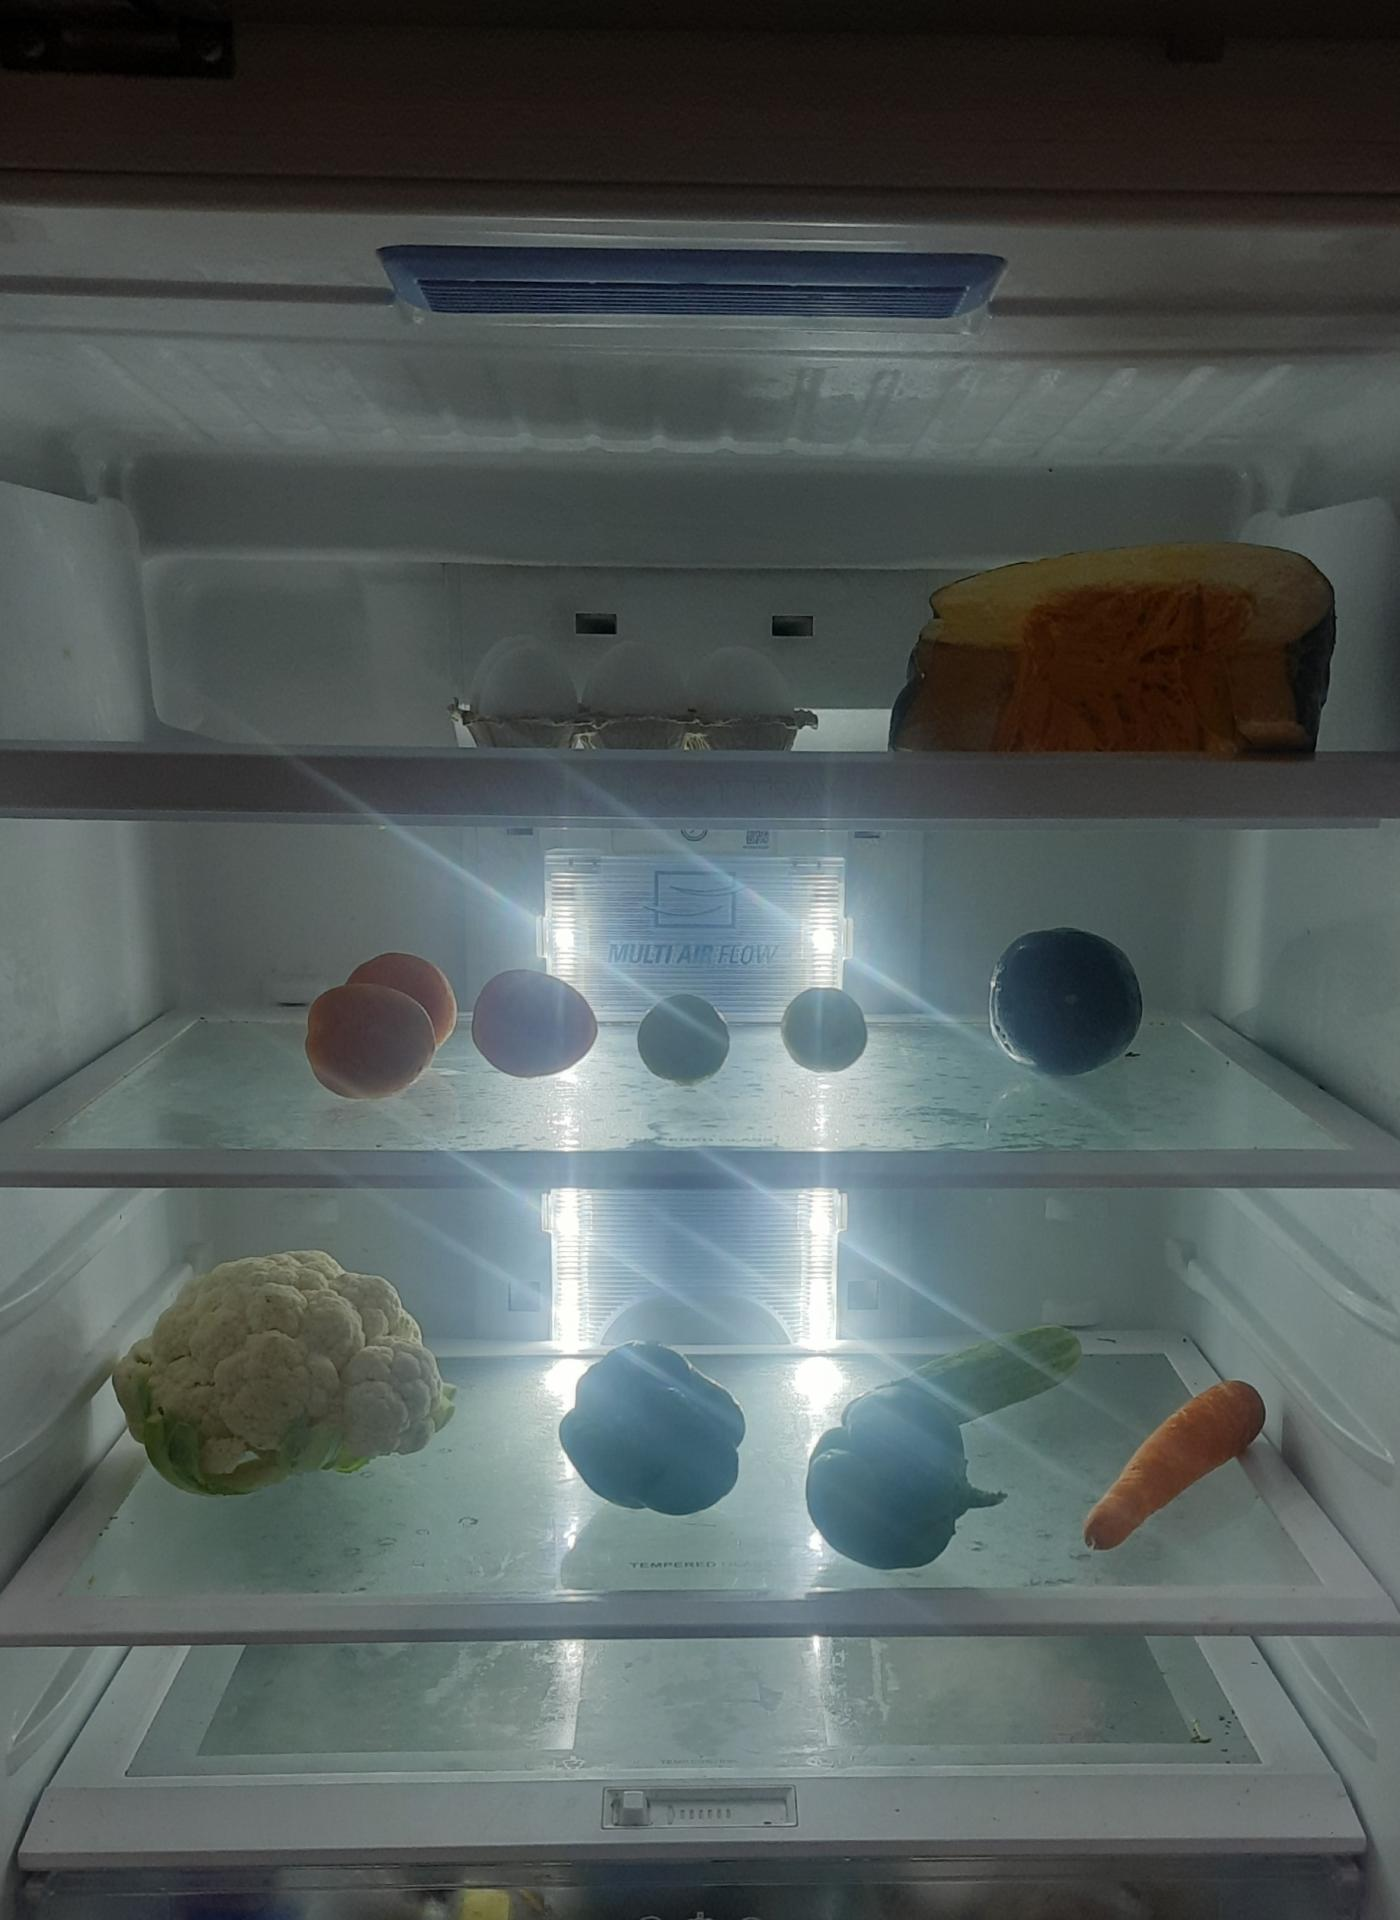brinjal: (980, 908, 1150, 1091)
capsicum: (795, 1367, 1009, 1577), (552, 1333, 745, 1515), (632, 997, 732, 1088)
carrots: (1078, 1380, 1266, 1558)
cauliflower: (119, 1243, 461, 1488)
cucumber: (915, 1324, 1085, 1413)
egg: (456, 619, 814, 741)
lemon: (777, 966, 871, 1084)
pumpkin: (902, 532, 1349, 759)
tomato: (306, 951, 461, 1102), (468, 963, 602, 1076)
